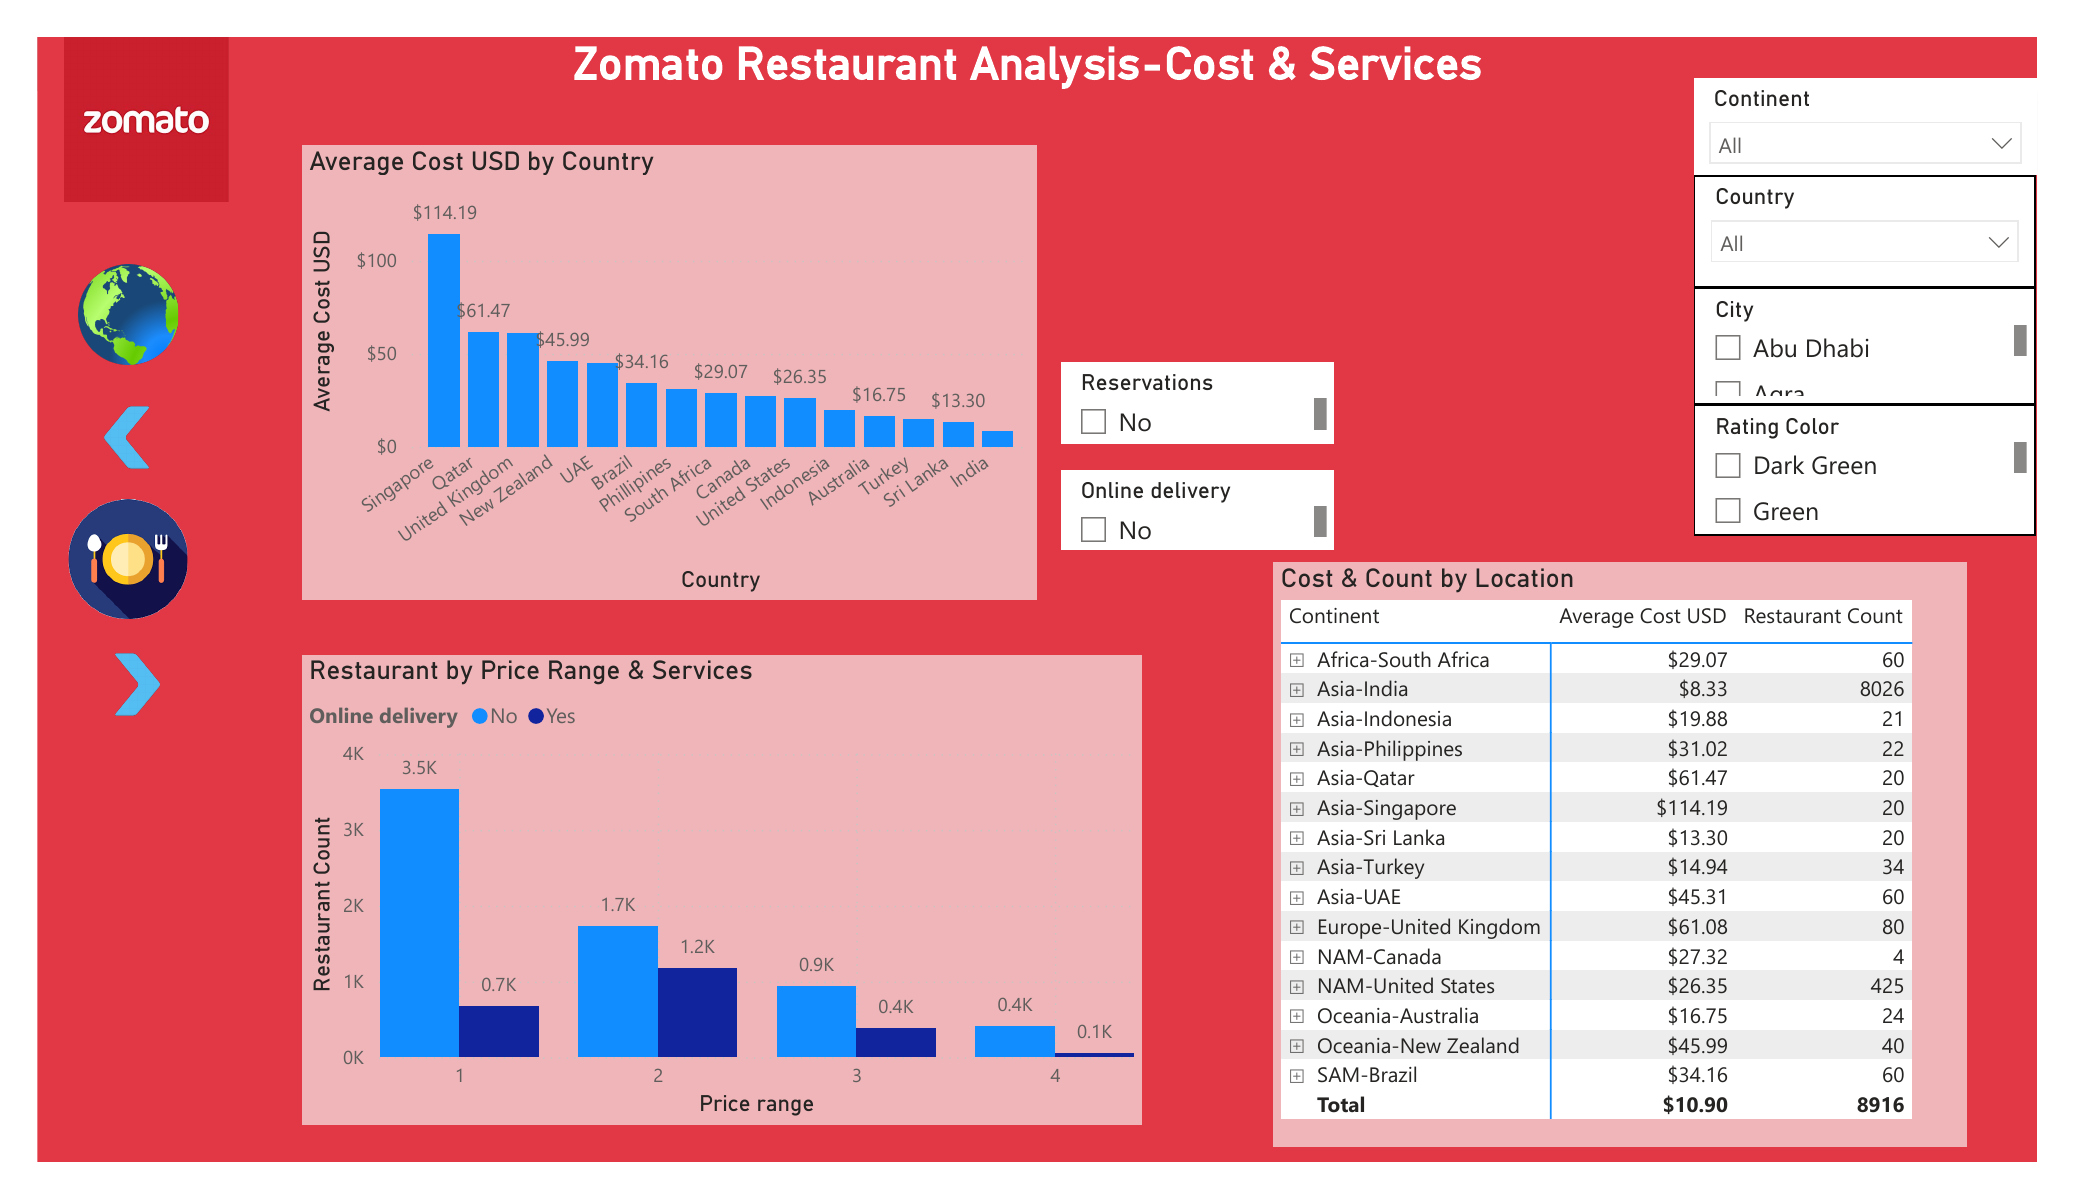

What the dashboard file says about the page in this screenshot:
{"tool":"powerbi","page":{"name":"Cost & Services","canvas":[1280,720],"ordinal":2},"visuals":[{"type":"textbox","title":"Zomato Restaurant Analysis-Cost & Services","box":[338,0,666,74],"z":0},{"type":"clusteredColumnChart","fields":{"Category":["Dim_Country.Country"],"Y":["Fact_Restaurants.Average Cost USD"]},"box":[168.8,68.8,470.8,291.7],"z":1000},{"type":"clusteredColumnChart","title":"Restaurant by Price Range & Services","fields":{"Category":["Fact_Restaurants.Price range"],"Y":["Fact_Restaurants.Restaurant Count"],"Series":["Fact_Restaurants.Online delivery"]},"box":[169.1,394.5,538.2,301.8],"z":2000},{"type":"pivotTable","title":"Cost & Count by Location","fields":{"Rows":["Dim_Country.Continent","Dim_Country.Country"],"Values":["Fact_Restaurants.Average Cost USD","Fact_Restaurants.Restaurant Count"]},"box":[791.3,336.4,443.4,374],"z":3000},{"type":"slicer","fields":{"Values":["Dim_Country.Continent"]},"box":[1060,26,220,62],"z":4000},{"type":"slicer","fields":{"Values":["Dim_Country.Country"]},"box":[1060.4,87.5,218.8,72.9],"z":5000},{"type":"slicer","fields":{"Values":["Fact_Restaurants.City"]},"box":[1060.4,160.4,218.8,75],"z":6000},{"type":"slicer","fields":{"Values":["Fact_Restaurants.Rating Color"]},"box":[1060.4,235.4,218.8,83.3],"z":7000},{"type":"slicer","fields":{"Values":["Fact_Restaurants.Reservations"]},"box":[655,208.3,175,51.7],"z":8000},{"type":"slicer","fields":{"Values":["Fact_Restaurants.Online delivery"]},"box":[655,276.7,175,51.7],"z":9000},{"type":"image","box":[26,140,64,74],"z":10000},{"type":"image","box":[4,236,106,40],"z":11000},{"type":"image","box":[20,292,76,84],"z":12000},{"type":"image","box":[4,394,120,40],"z":13000},{"type":"image","box":[3.9,0,130.1,105.1],"z":14000}]}

Visuals, with their boxes on the page's 1280x720 design canvas (x1, y1, x2, y2). These are canvas units, not pixel positions in the 2075x1200 screenshot, which may show the page scaled, cropped or inside an application window:
"Zomato Restaurant Analysis-Cost & Services" textbox: [338,0,1004,74]
clusteredColumnChart - Dim_Country.Country x Fact_Restaurants.Average Cost USD: [169,69,640,360]
"Restaurant by Price Range & Services" clusteredColumnChart: [169,394,707,696]
"Cost & Count by Location" pivotTable: [791,336,1235,710]
slicer - Dim_Country.Continent: [1060,26,1280,88]
slicer - Dim_Country.Country: [1060,88,1279,160]
slicer - Fact_Restaurants.City: [1060,160,1279,235]
slicer - Fact_Restaurants.Rating Color: [1060,235,1279,319]
slicer - Fact_Restaurants.Reservations: [655,208,830,260]
slicer - Fact_Restaurants.Online delivery: [655,277,830,328]
image: [26,140,90,214]
image: [4,236,110,276]
image: [20,292,96,376]
image: [4,394,124,434]
image: [4,0,134,105]
